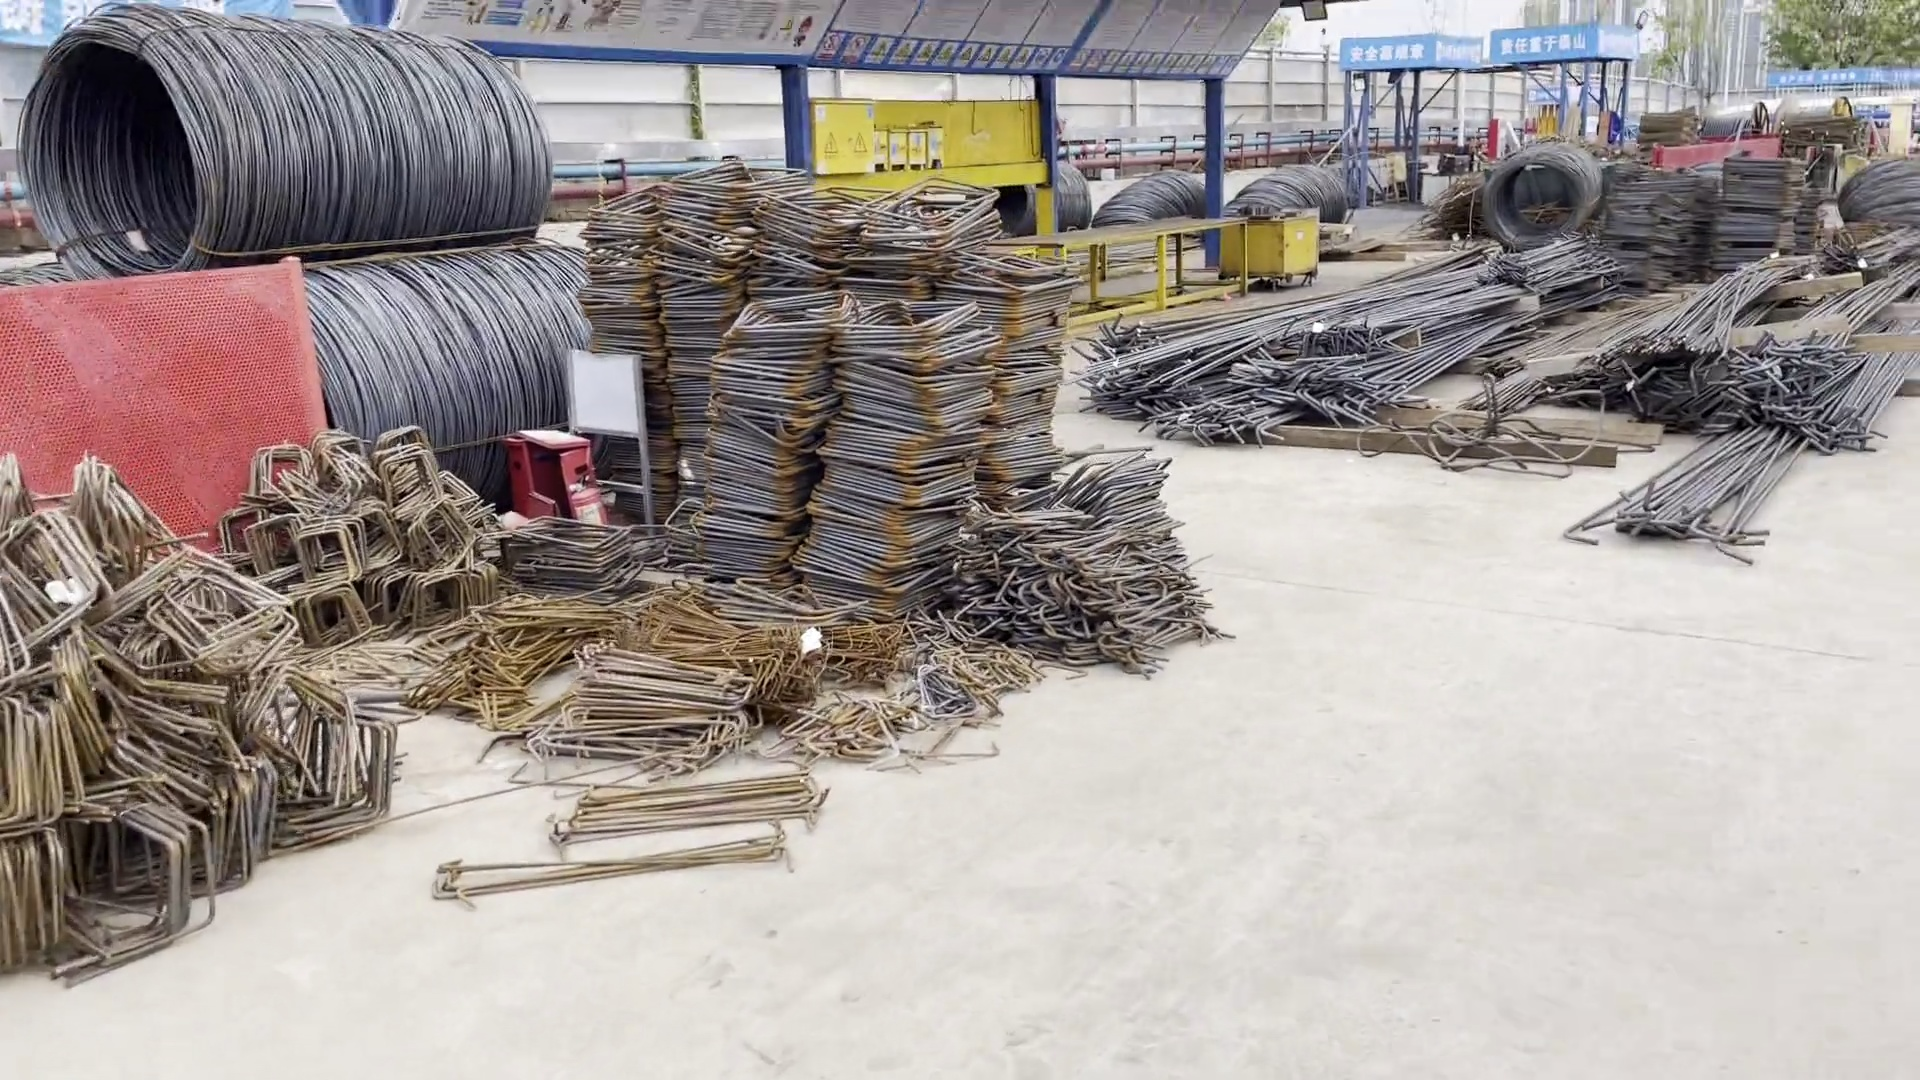ebox: (800, 95, 887, 175)
rebar: (1538, 236, 1920, 531), (1112, 232, 1606, 430)
slogan: (1338, 36, 1427, 65), (1499, 36, 1588, 63)
